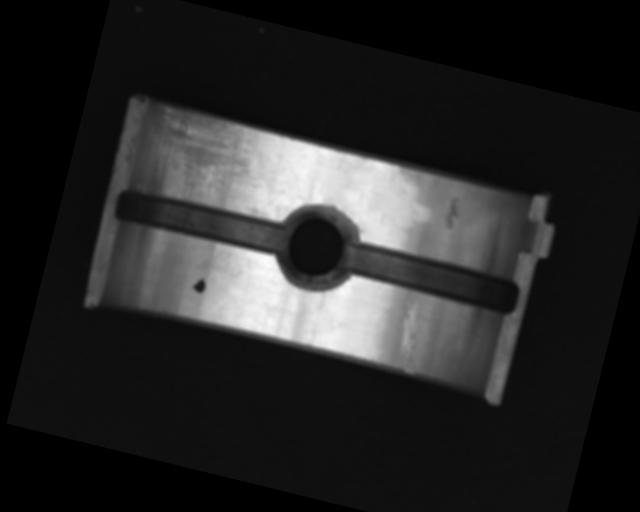blot: (190, 275, 208, 296)
bruise: (438, 193, 465, 232)
gap: (339, 237, 522, 318), (112, 184, 292, 260)
hole: (268, 197, 363, 297)
nick: (390, 298, 431, 374)
scratch: (131, 99, 268, 214)
